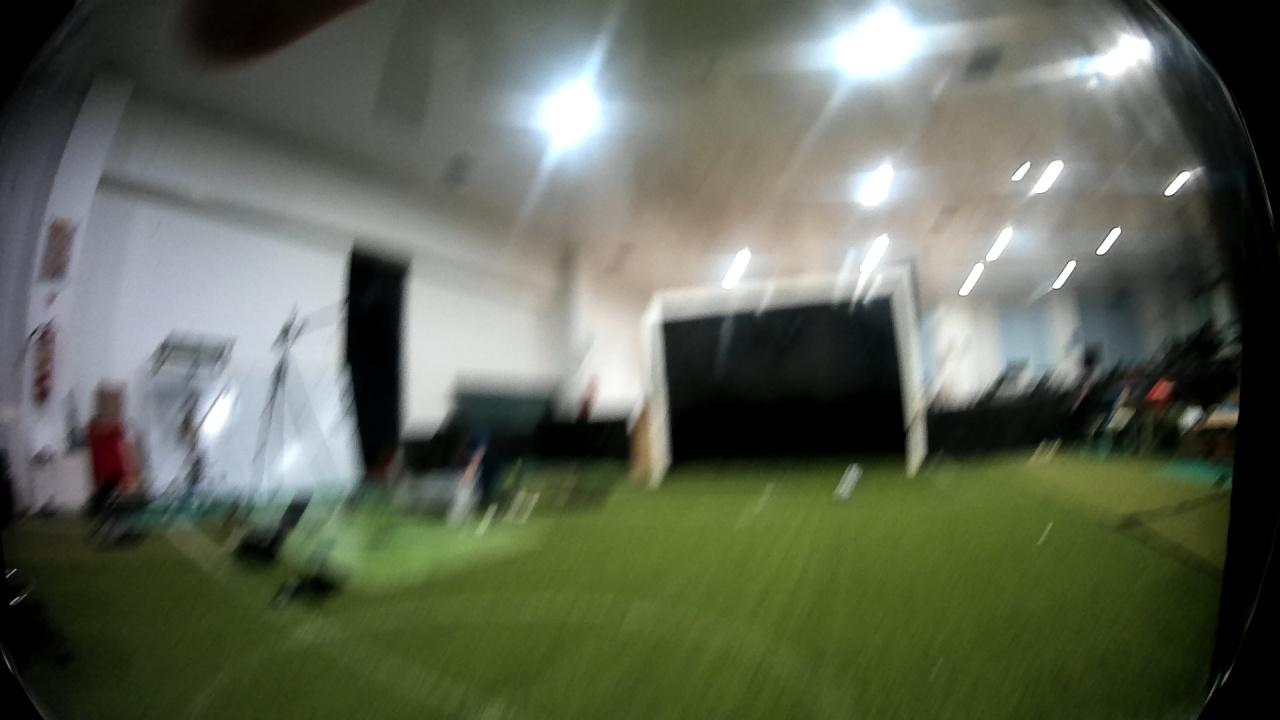ball: (831, 459, 863, 510)
